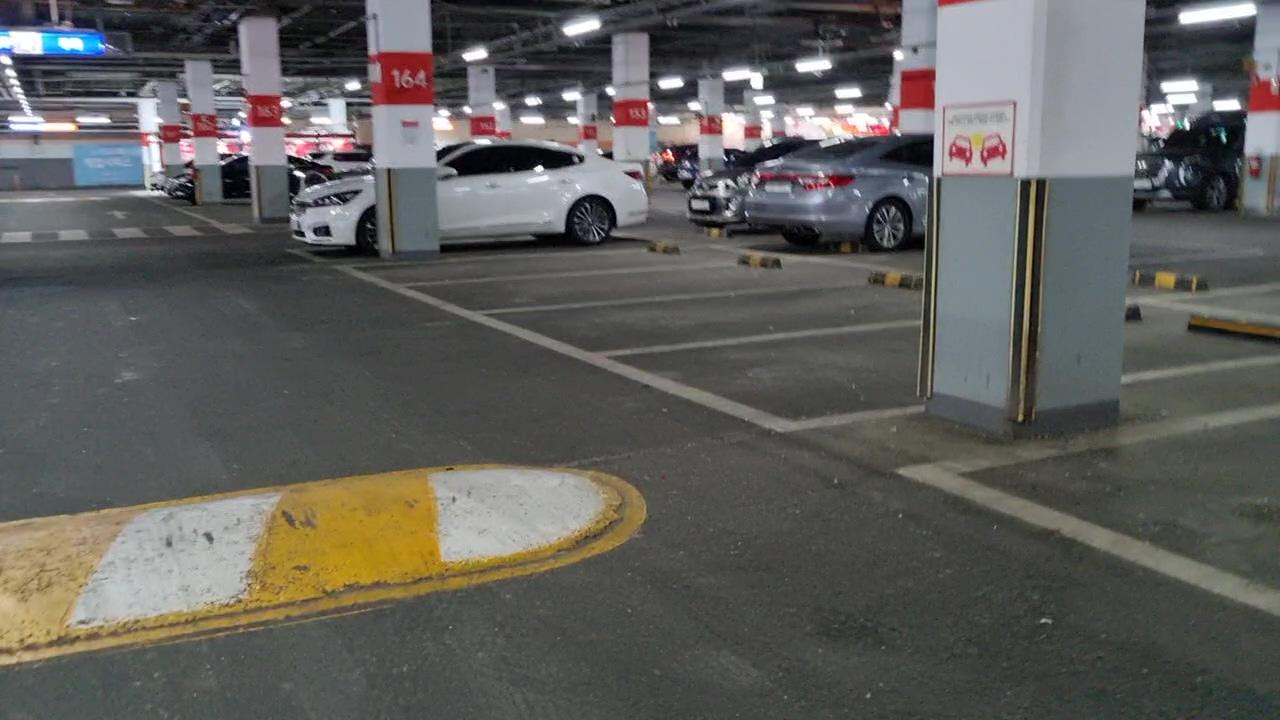empty: (598, 303, 1280, 426), (466, 277, 990, 363), (405, 268, 846, 320), (333, 251, 707, 292)
occupied: (294, 147, 611, 262)
